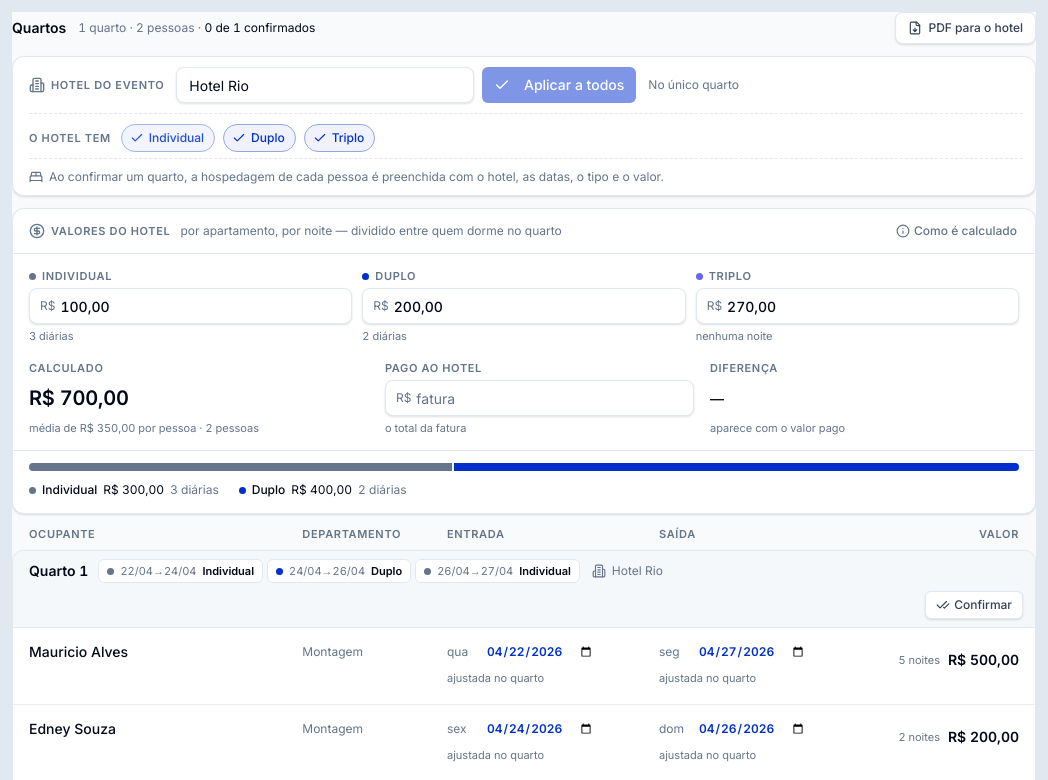
Test: Valores do hotel na aba Quartos › tarifa digitada salva em centavos ao sair do campo; inválida mostra o erro no campo e não grava
Replace the text in the field with test id "tarifa-double-campo" with "140". click: (534, 306)
box: [389,289,679,323]
Then press Enter
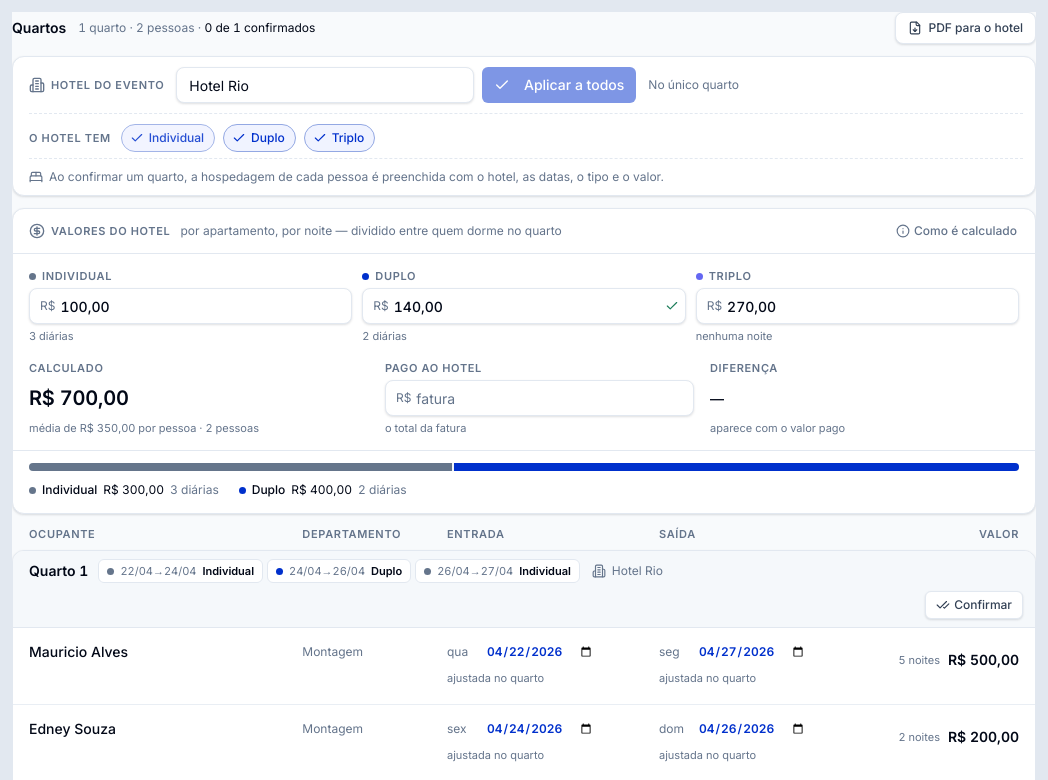
Replace the text in the field with test id "tarifa-triple-campo" with "12a". click: (867, 306)
box: [722,289,1012,323]
Then press Enter
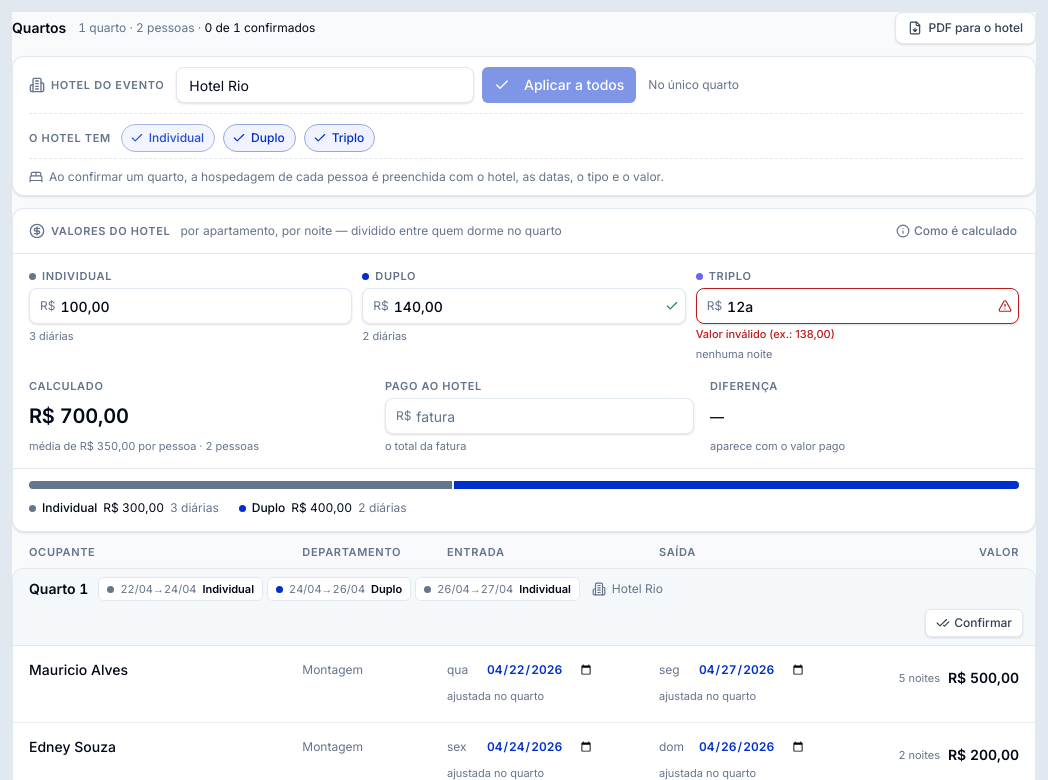
Expected: the message reads "Valor inválido (ex.: 138,00)", [696,327,835,341]
